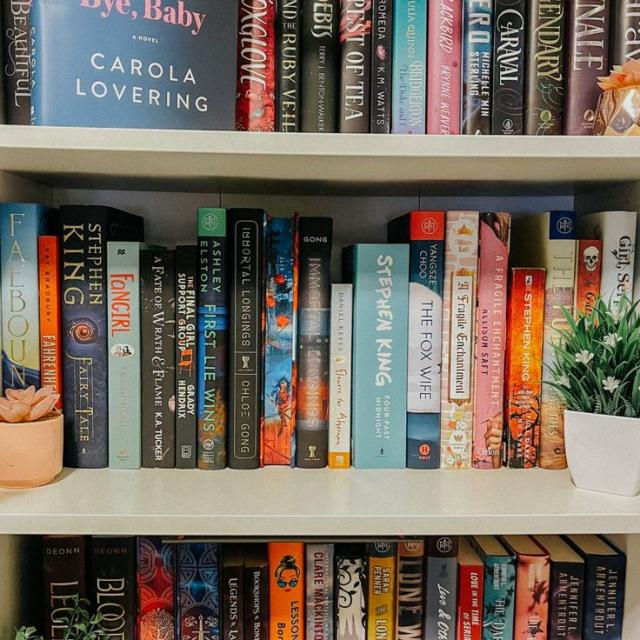book: (353, 243, 410, 468), (62, 206, 108, 468), (439, 211, 479, 468), (472, 213, 510, 468), (407, 211, 443, 468), (542, 211, 577, 469), (229, 209, 261, 468), (296, 216, 328, 467), (263, 216, 294, 467), (141, 250, 176, 468), (507, 268, 545, 467), (108, 242, 139, 470), (0, 204, 39, 384), (199, 208, 225, 468), (563, 2, 610, 133), (523, 0, 567, 137), (90, 537, 136, 640), (42, 537, 88, 640), (302, 0, 337, 134), (239, 0, 275, 129), (176, 246, 196, 468), (493, 1, 526, 134), (339, 0, 371, 133), (177, 541, 219, 640), (394, 0, 424, 134), (429, 1, 458, 134), (138, 537, 175, 640), (599, 210, 638, 307), (462, 0, 490, 134), (330, 284, 350, 466), (584, 557, 627, 640), (1, 0, 29, 124), (425, 536, 458, 640), (269, 542, 302, 640), (514, 554, 549, 640), (276, 1, 299, 130), (482, 555, 516, 640), (39, 236, 58, 388), (395, 542, 424, 640), (367, 542, 396, 640), (335, 556, 368, 640), (549, 561, 584, 640), (306, 544, 334, 640), (372, 0, 391, 134), (610, 0, 640, 72), (457, 565, 483, 640), (577, 239, 601, 318), (245, 567, 268, 640), (222, 566, 244, 640)
